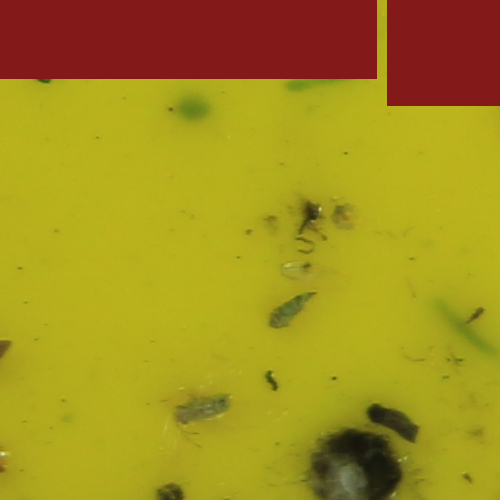Glycaspis: (264, 288, 324, 330), (168, 394, 236, 424)
